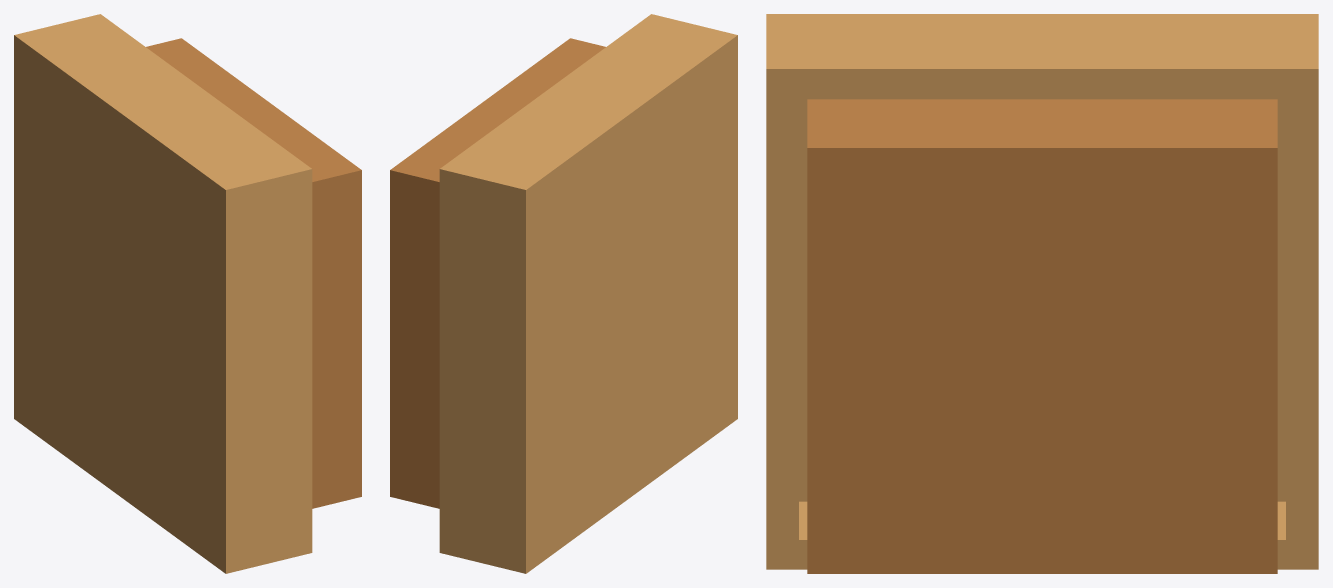
The model's file is Escape_Room_Knopf.fbx.
3 renders of one model, left to right at view 1: azimuth 30°, elevation 25°; view 2: azimuth 150°, elevation 25°; view 3: azimuth 270°, elevation 25°, orthographic. The views are drawn at different scales.
Visible parts, largest first — view 1: Cube, Cube.001; view 2: Cube, Cube.001; view 3: Cube.001, Cube.
Part boxes in pixels (x1,y1,x2,y2): Cube: [14, 14, 312, 573]; Cube.001: [146, 38, 361, 508]; Cube: [439, 14, 737, 573]; Cube.001: [390, 38, 605, 508]; Cube.001: [807, 99, 1277, 573]; Cube: [766, 14, 1318, 569].
Size of the model in its own units: 82.77 by 200 by 200.
